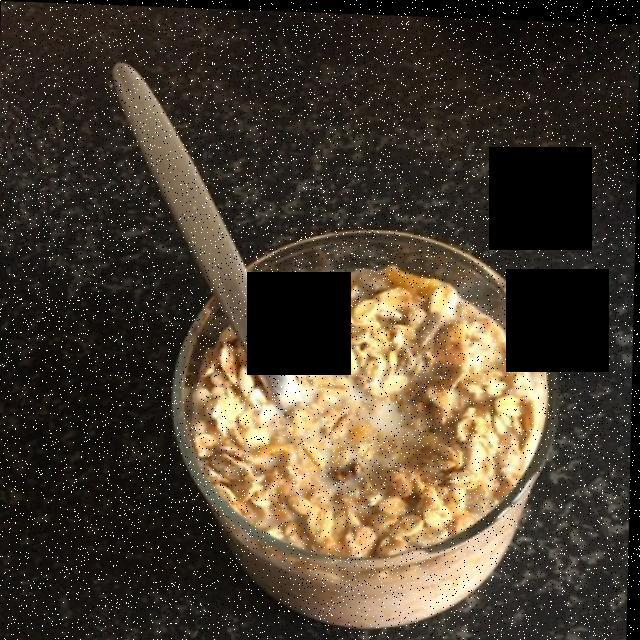muesli: (203, 267, 540, 540)
